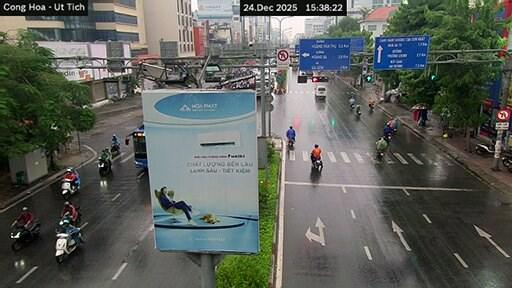motorbike: (11, 219, 40, 250), (55, 229, 77, 263), (61, 173, 79, 199), (59, 206, 81, 226), (475, 141, 494, 155), (98, 158, 111, 175), (502, 151, 511, 167), (311, 158, 322, 171), (110, 143, 120, 157), (376, 149, 384, 159), (287, 138, 294, 149), (368, 104, 374, 111), (355, 110, 360, 117), (350, 103, 354, 109)
